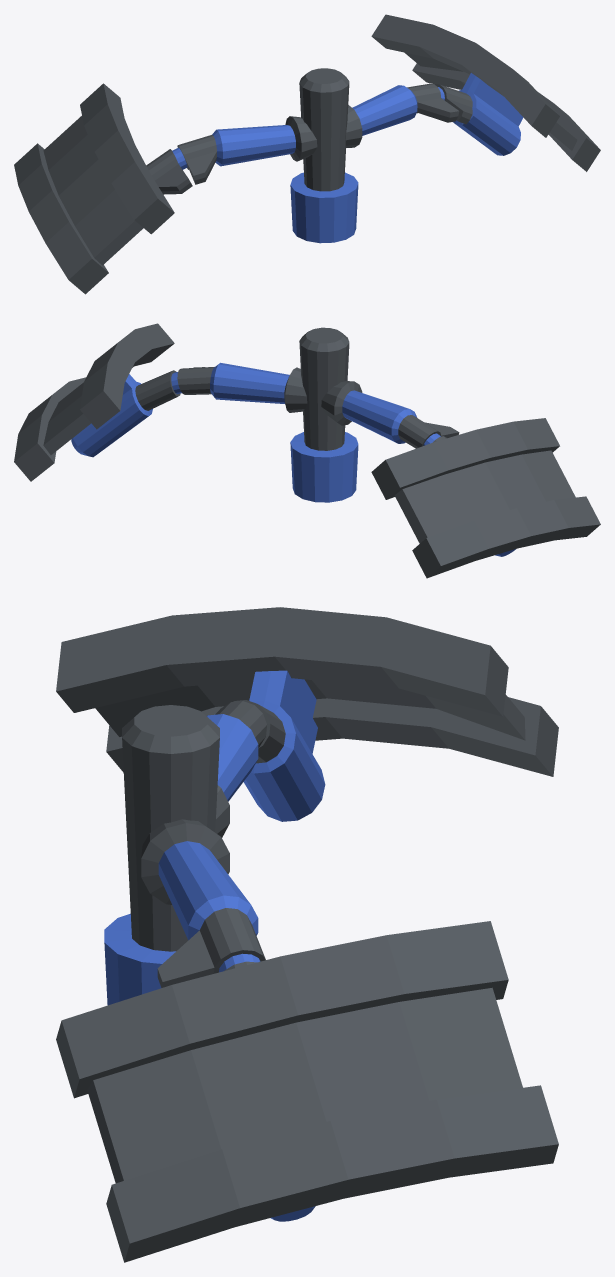
File: Personal_Vehicle_04_Handle_Bard_Blue.fbx
3 views of the same model, one above another, from view 1: azimuth 30°, elevation 25°; view 2: azimuth 150°, elevation 25°; view 3: azimuth 270°, elevation 25° (orthographic). The views are drawn at different scales.
Parts seen in each view (by area): view 1: Personal_Vehicle_04_Handle_Bard_Blue; view 2: Personal_Vehicle_04_Handle_Bard_Blue; view 3: Personal_Vehicle_04_Handle_Bard_Blue.
Boxes of the visible parts, x1=… form: Personal_Vehicle_04_Handle_Bard_Blue: x1=14, y1=14, x2=600, y2=294; Personal_Vehicle_04_Handle_Bard_Blue: x1=14, y1=323, x2=600, y2=578; Personal_Vehicle_04_Handle_Bard_Blue: x1=56, y1=607, x2=558, y2=1262.
Size of the model in its own units: 73.53 by 20.29 by 30.07.
1 material, 1 textured.
